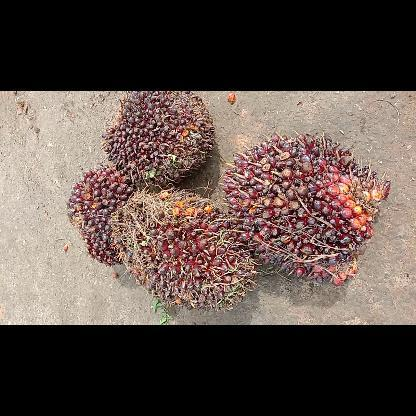Kurang masak: (219, 131, 389, 285), (115, 190, 260, 310), (101, 91, 213, 189), (67, 165, 135, 266)
